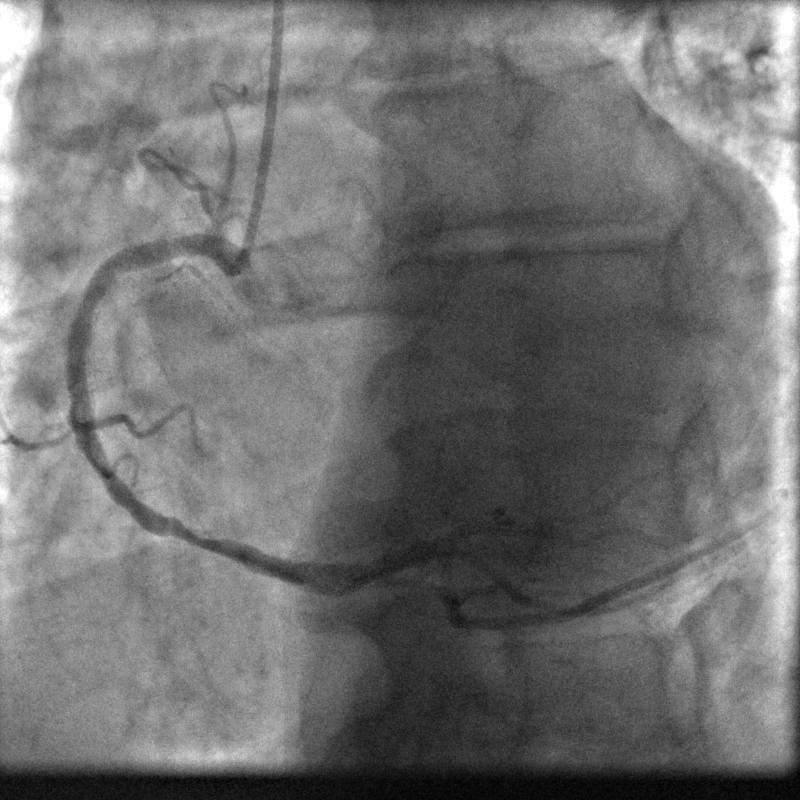Stenosis: (159, 510, 217, 552)
